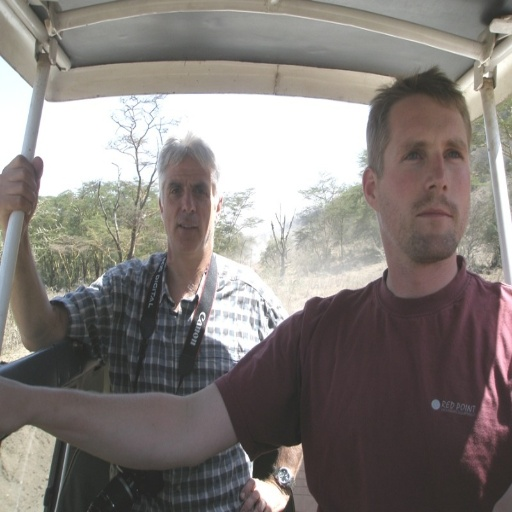hand: (3, 144, 35, 220), (0, 374, 30, 436), (238, 477, 288, 510)
